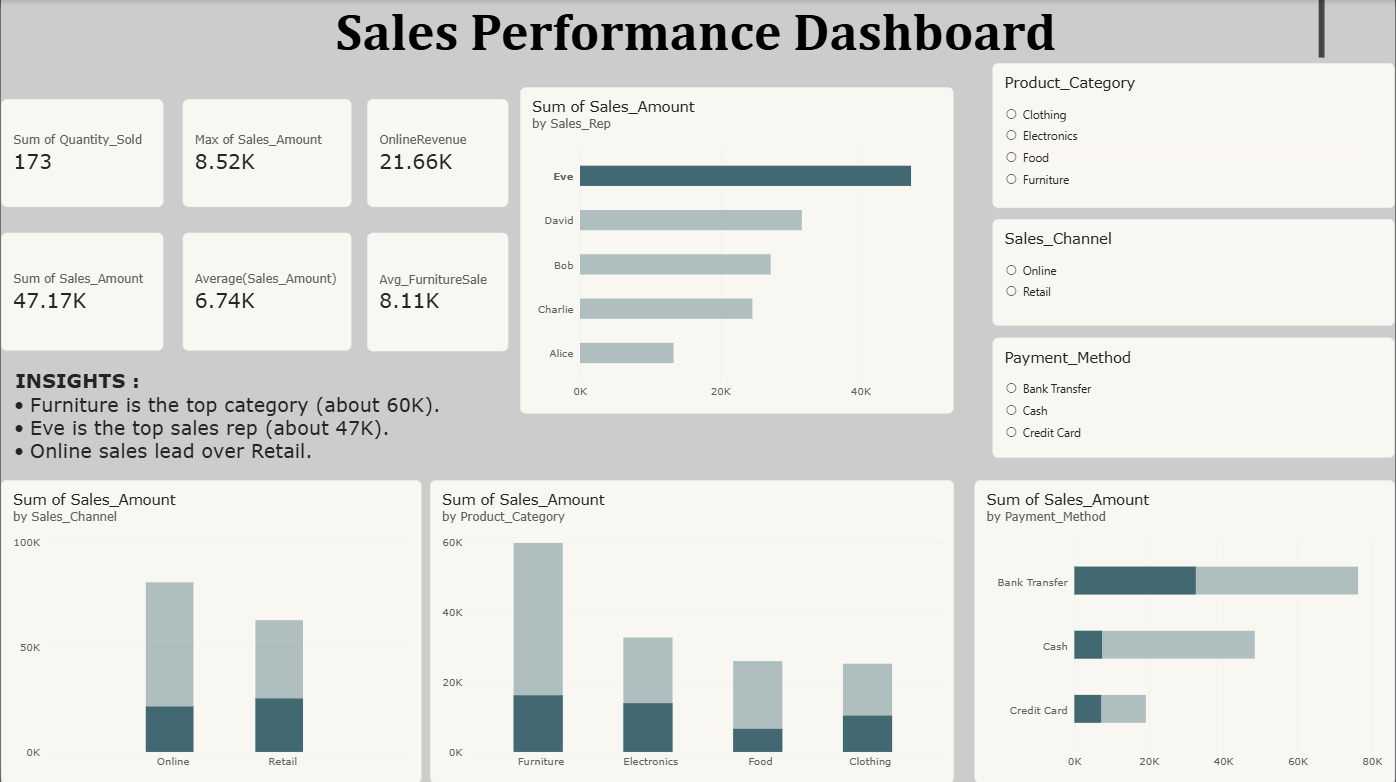

What the dashboard file says about the page in this screenshot:
{"tool":"powerbi","page":{"name":"Page 1","canvas":[1920,1080],"ordinal":0},"visuals":[{"type":"cardVisual","fields":{"Data":["Sum(Sales_Data_Raw.Quantity_Sold)"]},"box":[0,136.3,224.9,149.9],"z":0},{"type":"cardVisual","fields":{"Data":["Sum(Sales_Data_Raw.Sales_Amount)"]},"box":[0,320.3,224.9,163.5],"z":2000},{"type":"cardVisual","fields":{"Data":["Max(Sales_Data_Raw.Sales_Amount)"]},"box":[249.8,136.3,233.9,149.9],"z":3000},{"type":"clusteredBarChart","fields":{"Category":["Sales_Data_Raw.Sales_Rep"],"Y":["Sum(Sales_Data_Raw.Sales_Amount)"]},"box":[715.5,120.4,597.4,449.7],"z":4000},{"type":"clusteredColumnChart","fields":{"Category":["Sales_Data_Raw.Product_Category"],"Y":["Sum(Sales_Data_Raw.Sales_Amount)"]},"box":[590.5,661,722.3,417.9],"z":5000},{"type":"cardVisual","fields":{"Data":["Avg(Sales_Data_Raw.Sales_Amount)"]},"box":[249.8,320.3,233.9,163.5],"z":6000},{"type":"clusteredColumnChart","fields":{"Category":["Sales_Data_Raw.Sales_Channel"],"Y":["Sum(Sales_Data_Raw.Sales_Amount)"]},"box":[0,661,579.2,417.9],"z":6001},{"type":"clusteredBarChart","fields":{"Category":["Sales_Data_Raw.Payment_Method"],"Y":["Sum(Sales_Data_Raw.Sales_Amount)"]},"box":[1340.1,661,579.2,417.9],"z":6002},{"type":"textbox","box":[99.9,0,1723.9,81.8],"z":6004},{"type":"listSlicer","fields":{"Values":["Sales_Data_Raw.Product_Category"]},"box":[1365.1,86.3,554.2,199.9],"z":6006},{"type":"cardVisual","fields":{"Data":["Sales_Data_Raw.OnlineRevenue"]},"box":[504.2,136.3,195.3,149.9],"z":6007},{"type":"cardVisual","fields":{"Data":["Sales_Data_Raw.Avg_FurnitureSale"]},"box":[504,320,195,164],"z":6008},{"type":"listSlicer","fields":{"Values":["Sales_Data_Raw.Sales_Channel"]},"box":[1365.1,302.1,554.2,147.6],"z":6009},{"type":"listSlicer","fields":{"Values":["Sales_Data_Raw.Payment_Method"]},"box":[1365.1,465.6,554.2,165.8],"z":6010},{"type":"textbox","box":[0,508.8,699.6,152.2],"z":6011}]}

Visuals, with their boxes in screenshot pixels (x1, y1, x2, y2), scaled from the page's 1920x1080 canvas onto the 1396x782 screenshot:
cardVisual - Sum(Sales_Data_Raw.Quantity_Sold): (0,99,164,207)
cardVisual - Sum(Sales_Data_Raw.Sales_Amount): (0,232,164,350)
cardVisual - Max(Sales_Data_Raw.Sales_Amount): (182,99,352,207)
clusteredBarChart - Sales_Data_Raw.Sales_Rep x Sum(Sales_Data_Raw.Sales_Amount): (520,87,955,413)
clusteredColumnChart - Sales_Data_Raw.Product_Category x Sum(Sales_Data_Raw.Sales_Amount): (429,479,955,781)
cardVisual - Avg(Sales_Data_Raw.Sales_Amount): (182,232,352,350)
clusteredColumnChart - Sales_Data_Raw.Sales_Channel x Sum(Sales_Data_Raw.Sales_Amount): (0,479,421,781)
clusteredBarChart - Sales_Data_Raw.Payment_Method x Sum(Sales_Data_Raw.Sales_Amount): (974,479,1395,781)
textbox: (73,0,1326,59)
listSlicer - Sales_Data_Raw.Product_Category: (993,62,1395,207)
cardVisual - Sales_Data_Raw.OnlineRevenue: (367,99,509,207)
cardVisual - Sales_Data_Raw.Avg_FurnitureSale: (366,232,508,350)
listSlicer - Sales_Data_Raw.Sales_Channel: (993,219,1395,326)
listSlicer - Sales_Data_Raw.Payment_Method: (993,337,1395,457)
textbox: (0,368,509,479)
